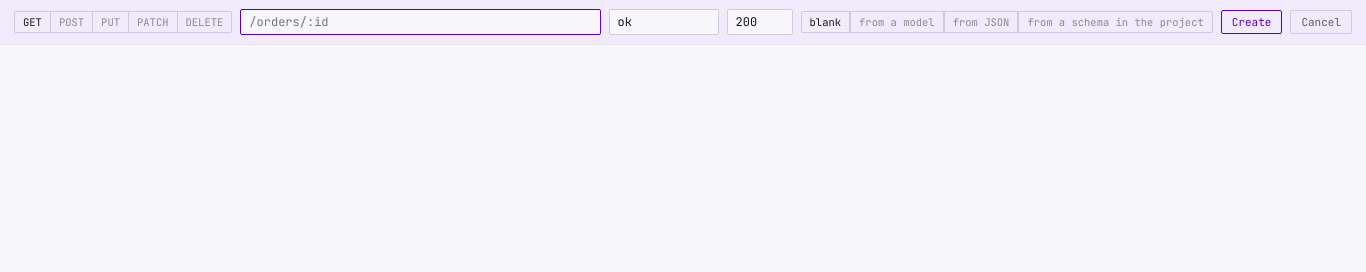
Test: creating from a schema in the project › refuses to submit without a file or an export name
This screenshot has width=1366, height=272.
Step 1. Click the button "from a schema in the project" → x=1115, y=22, box 1018,12 -> 1212,32
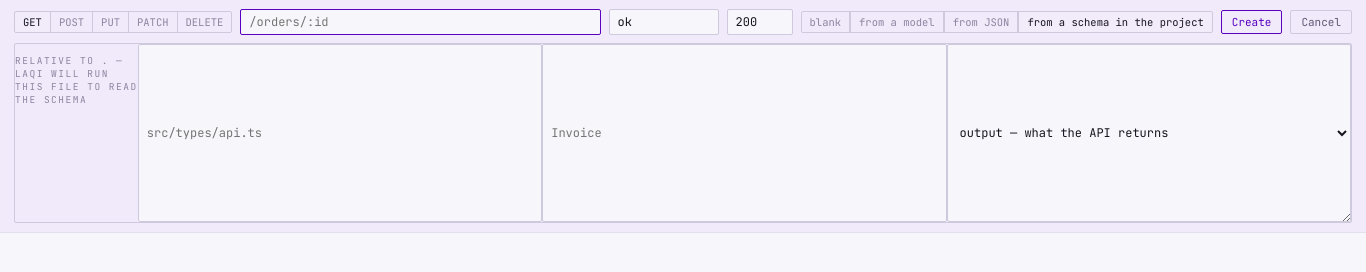
Step 2. Type "/invoices" into the field named "path" → x=420, y=22, box 240,9 -> 600,35
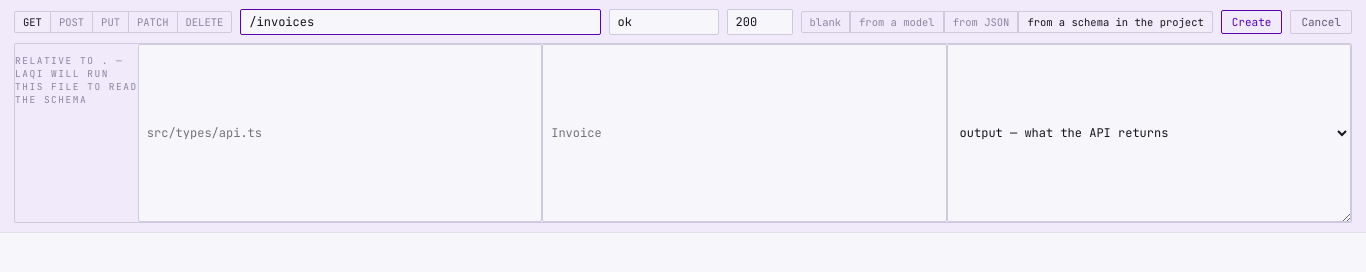
Step 3. Click the button "Create" → x=1252, y=22, box 1221,10 -> 1282,34
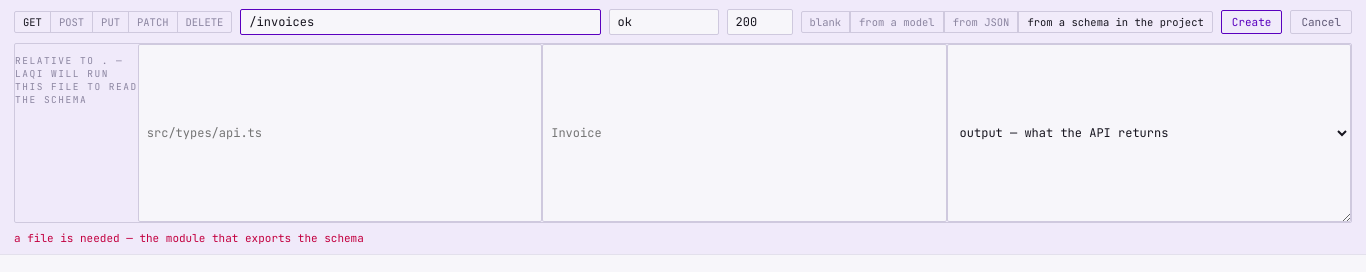
Now the message shows "a file is needed", box 14,231 -> 364,245
